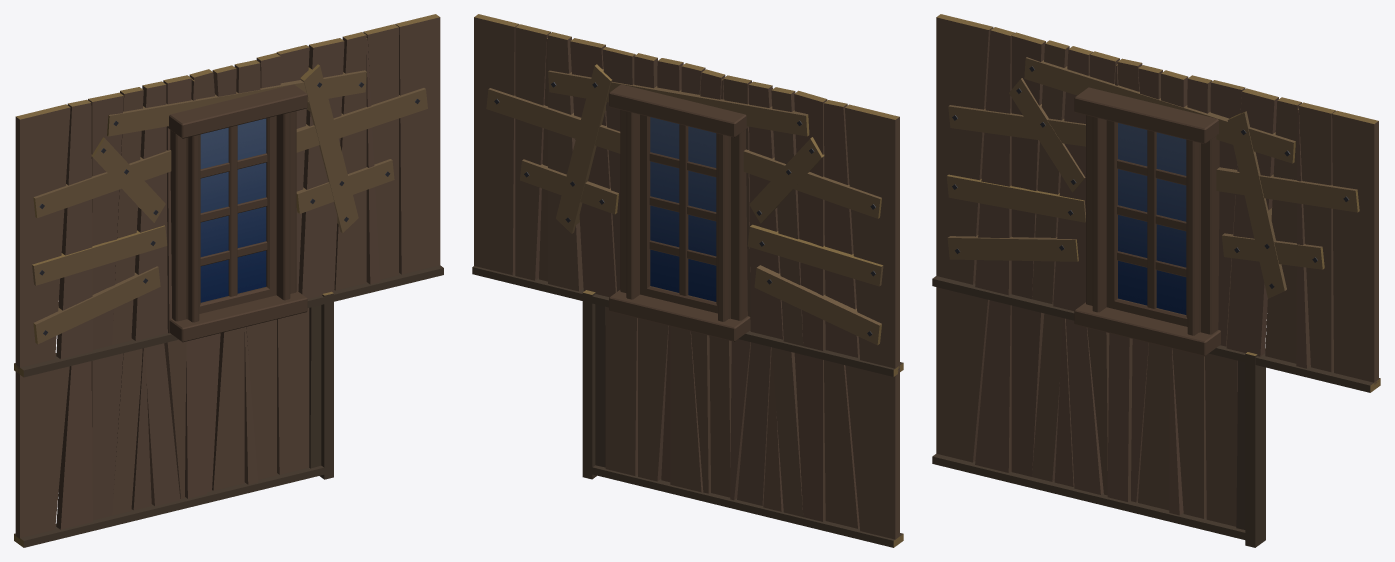
File: Wall_2F_Win_Door_6m.fbx
3 views of the same model, side by side, from view 1: azimuth 30°, elevation 25°; view 2: azimuth 150°, elevation 25°; view 3: azimuth 330°, elevation 25° (orthographic). The views are drawn at different scales.
Visible parts, largest first — view 1: pCube2426; view 2: pCube2426; view 3: pCube2426.
Part boxes in pixels (x1,y1,x2,y2): pCube2426: [14, 14, 443, 547]; pCube2426: [472, 14, 903, 547]; pCube2426: [932, 14, 1380, 547].
Bounding box in the file's own units: 600 × 588 × 80.
